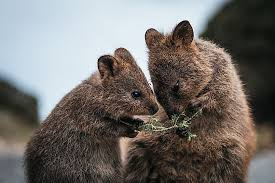quokka: (32, 20, 248, 183)
